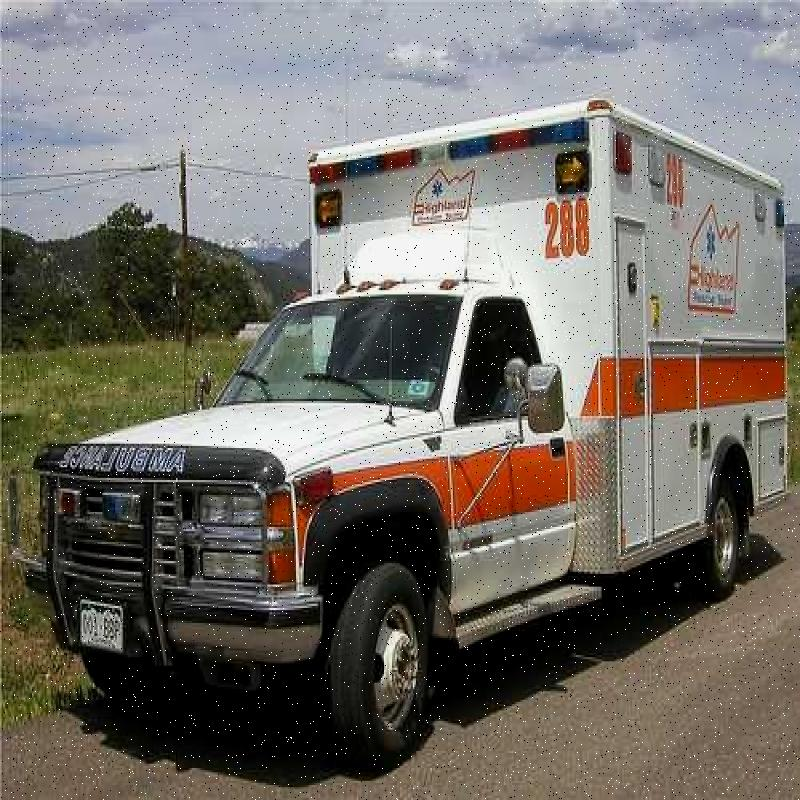AmbulanceSiren: (299, 106, 599, 201)
